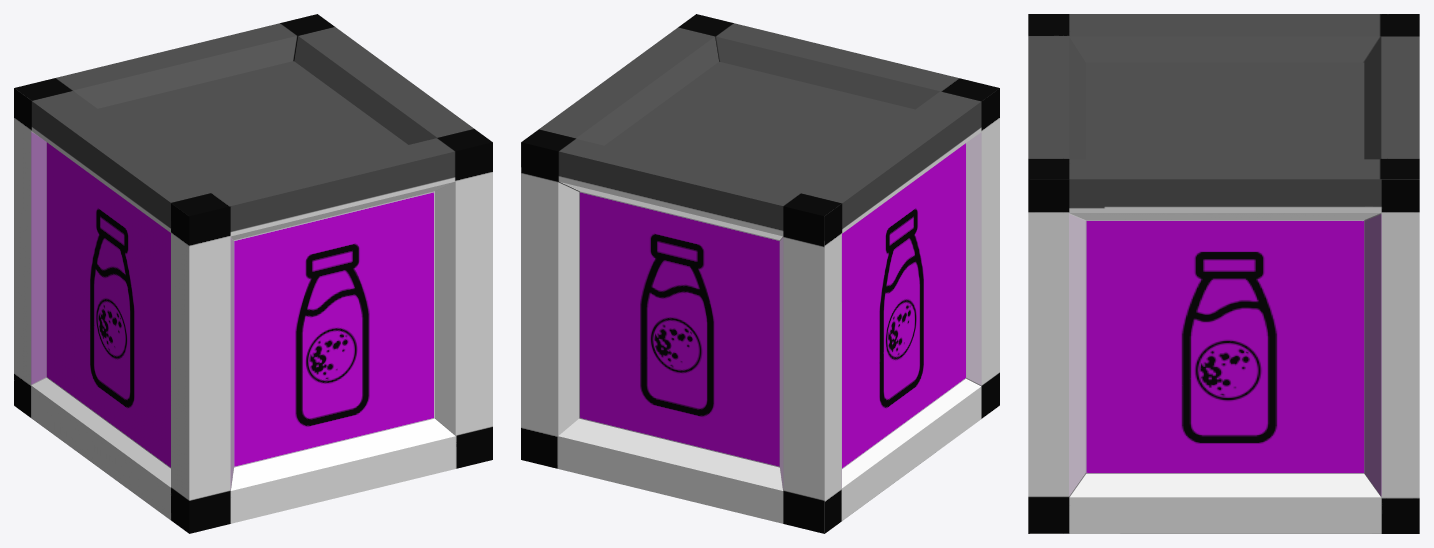
Rendered from Crate_Milk_Refined.obj.
3 views of the same model, side by side, from view 1: azimuth 30°, elevation 25°; view 2: azimuth 150°, elevation 25°; view 3: azimuth 270°, elevation 25° (orthographic). The views are drawn at different scales.
Parts seen in each view (by area): view 1: Crate:pCube2 Crate:polySurface2 Base_Crate; view 2: Crate:pCube2 Crate:polySurface2 Base_Crate; view 3: Crate:pCube2 Crate:polySurface2 Base_Crate.
Part boxes in pixels (bbox=[...]): Crate:pCube2 Crate:polySurface2 Base_Crate: bbox=[14, 14, 492, 533]; Crate:pCube2 Crate:polySurface2 Base_Crate: bbox=[521, 14, 999, 533]; Crate:pCube2 Crate:polySurface2 Base_Crate: bbox=[1028, 14, 1419, 533].
Bounding box in the file's own units: 1 × 1 × 1.
